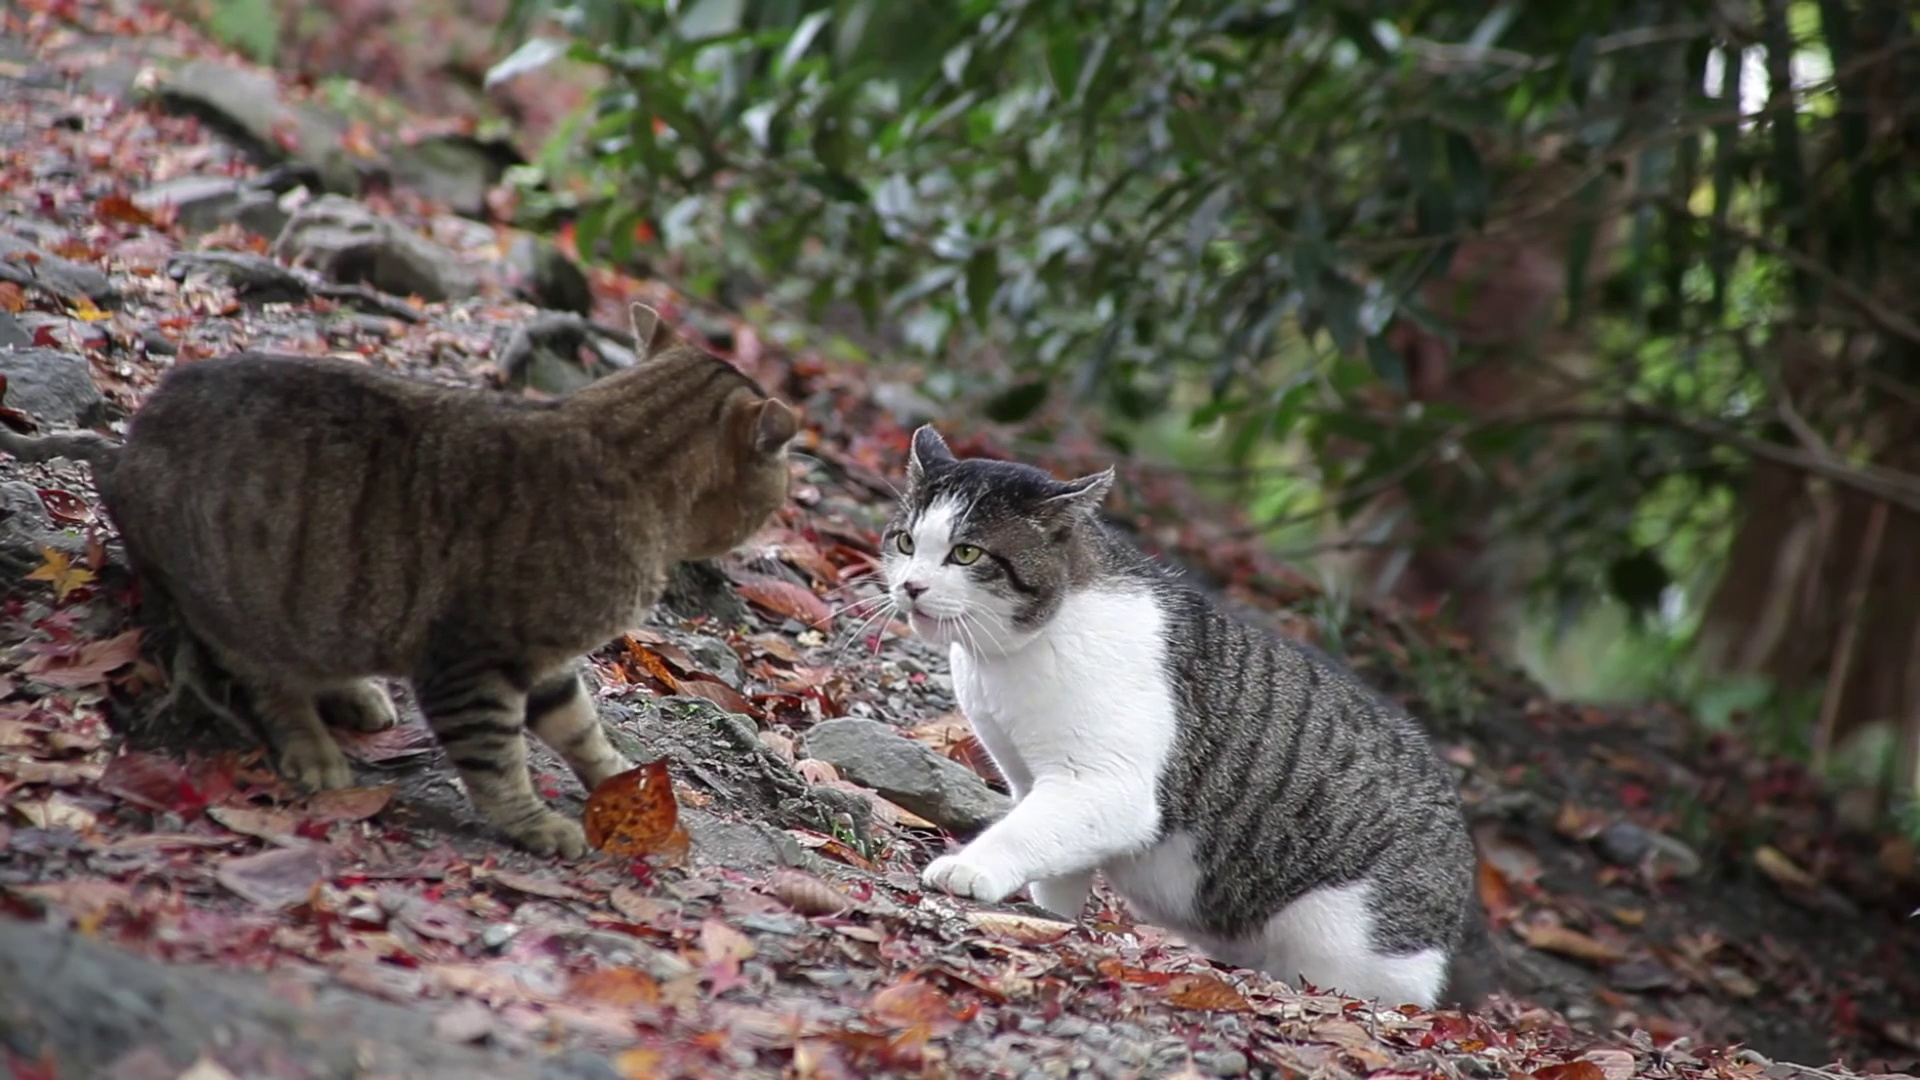black-white: (880, 425, 1476, 1009)
pure black: (108, 302, 794, 861)
